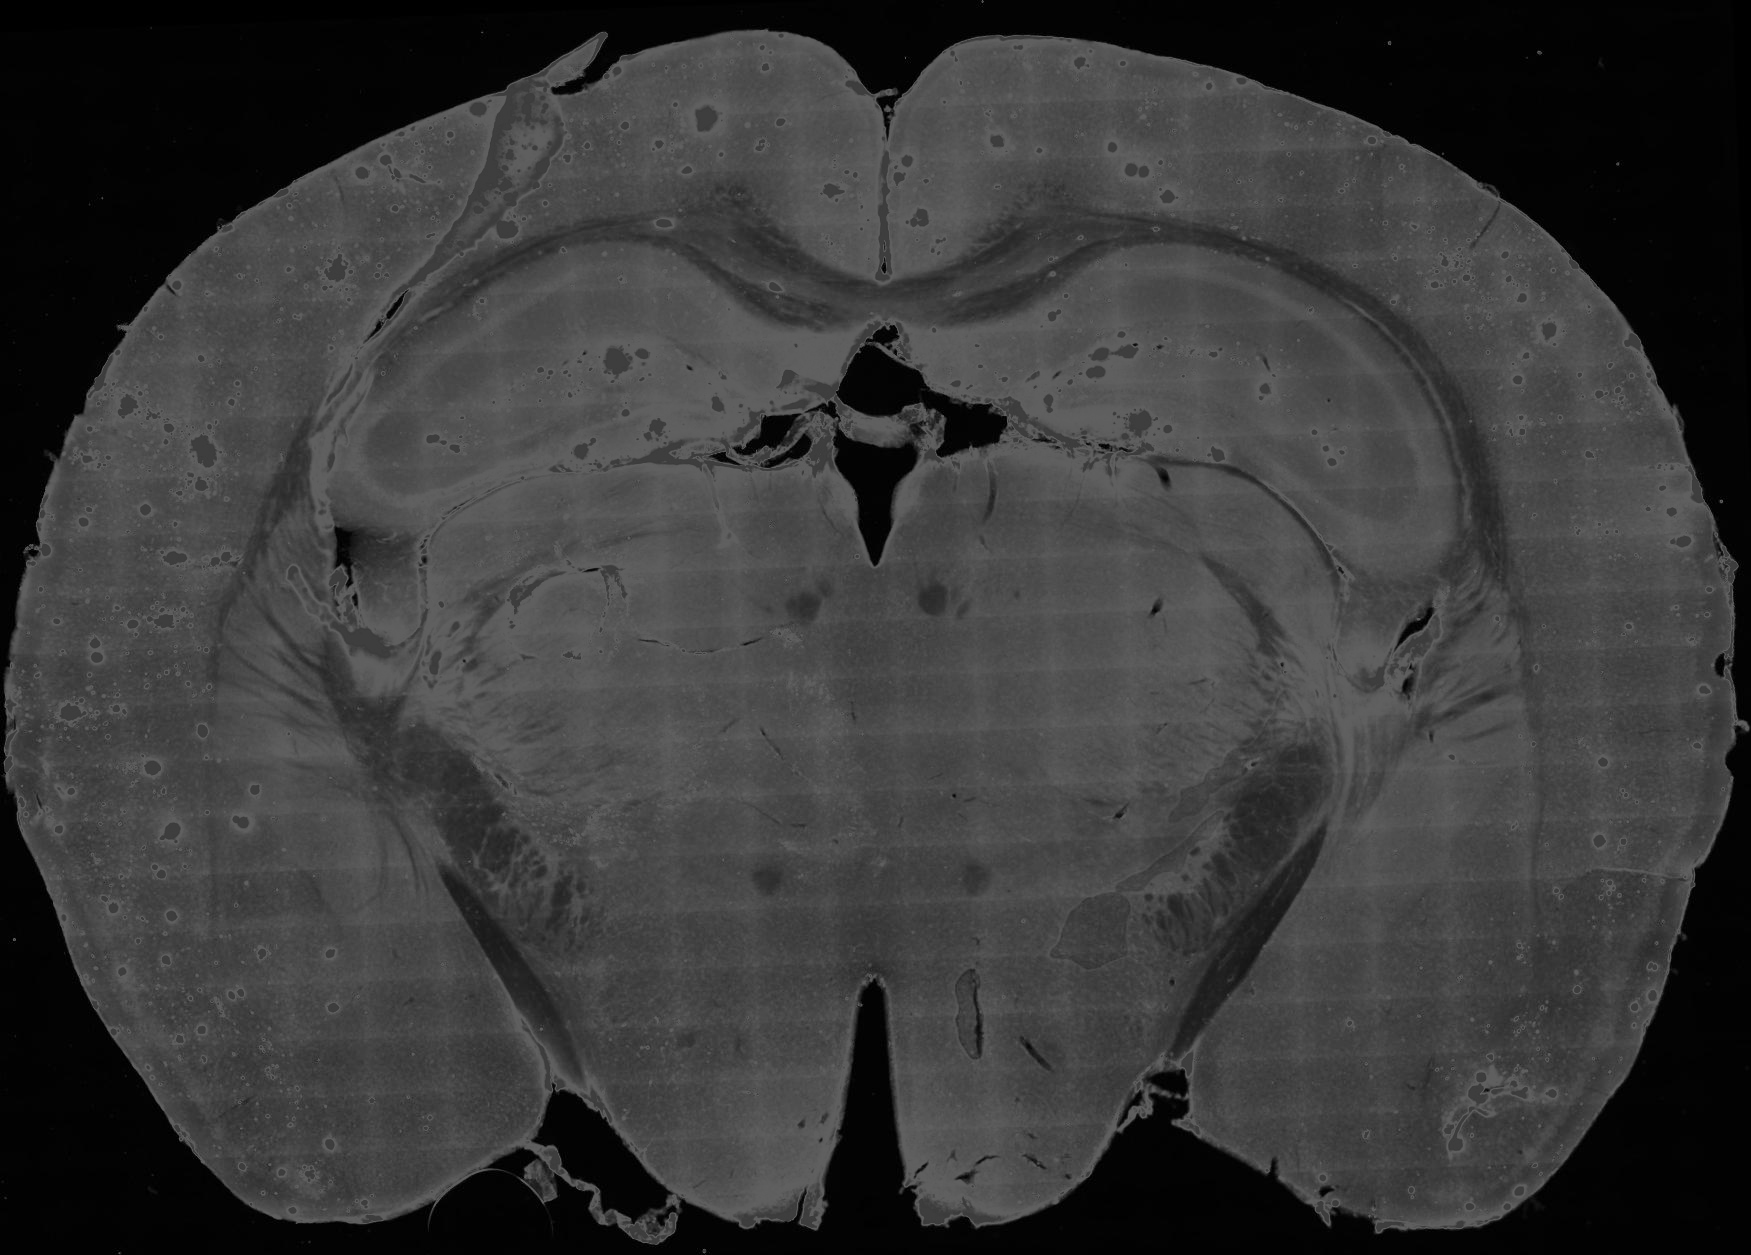Cerebral nuclei: (1333, 546, 1536, 922), (211, 488, 387, 914)
Hippocampal formation: (895, 242, 1458, 579), (312, 242, 882, 541)
Hypothalamus: (865, 731, 1274, 1235), (481, 771, 867, 1235)
Retrosplenial area: (758, 46, 884, 281), (884, 60, 1017, 283)
Somatosensory area: (1231, 87, 1703, 581), (57, 128, 470, 523)
Thalamus: (859, 437, 1339, 890), (403, 460, 872, 890)
